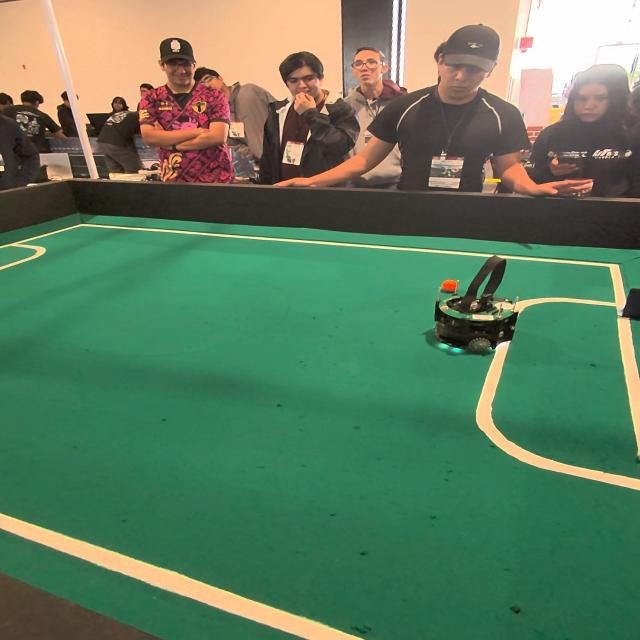Robot: (424, 252, 518, 363)
pelota: (436, 276, 458, 292)
